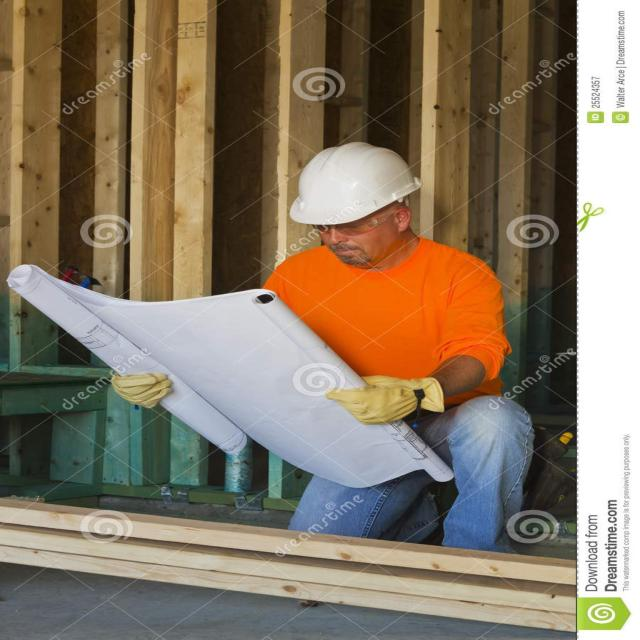Face: (314, 212, 402, 276)
